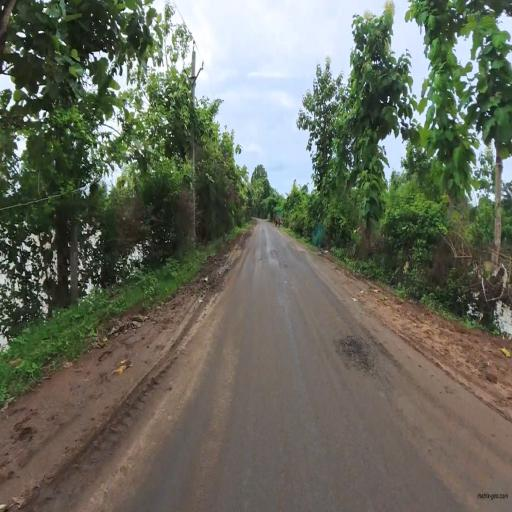ravelling: (321, 300, 418, 415)
